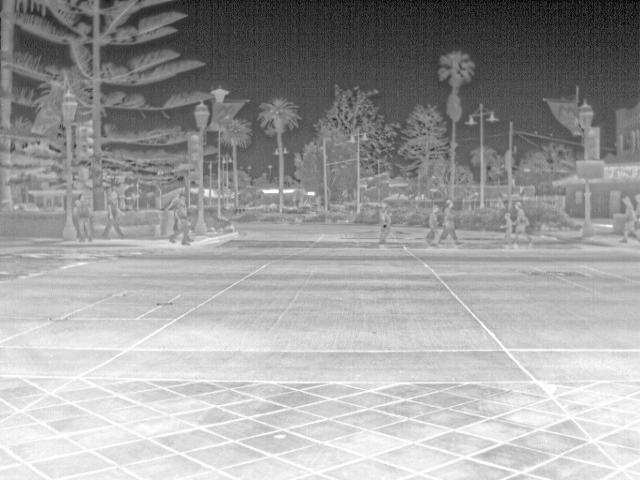person: (170, 194, 193, 243), (103, 196, 127, 241), (442, 200, 464, 246), (73, 194, 94, 241), (619, 194, 639, 243), (425, 204, 444, 246), (376, 206, 395, 246), (514, 200, 531, 244), (501, 213, 516, 241)
